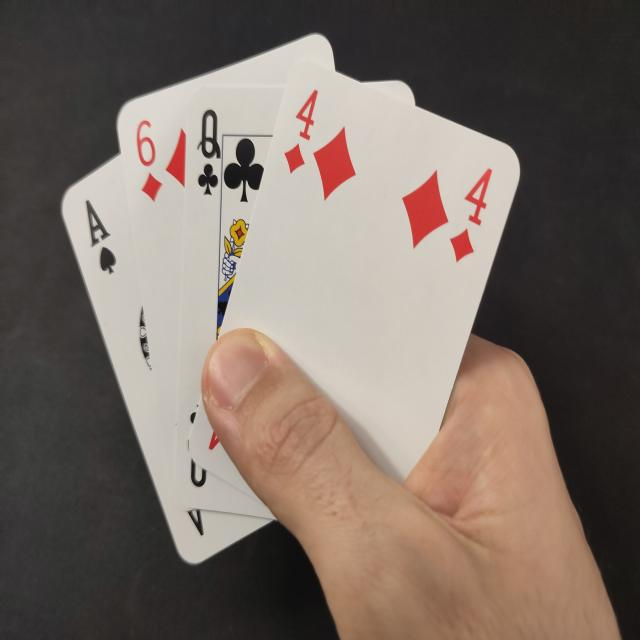4d: (445, 160, 500, 266), (278, 80, 328, 180)
6d: (133, 114, 163, 209)
As: (78, 194, 122, 280)
Qc: (190, 101, 228, 202)
